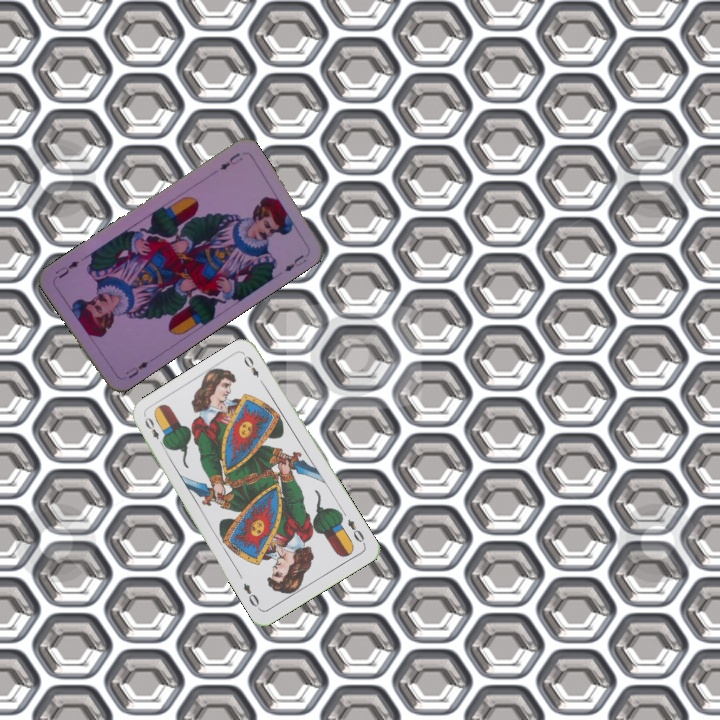EO: (140, 413, 168, 450), (343, 515, 368, 547)
EU: (215, 148, 246, 173), (121, 357, 151, 381)
